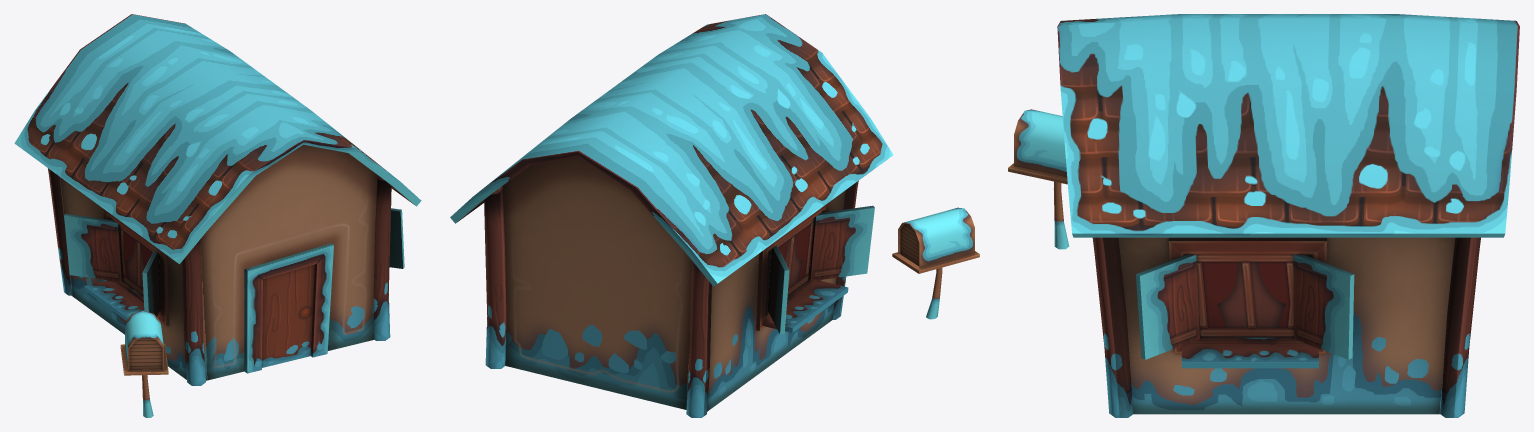
File: House4.FBX
3 views of the same model, side by side, from view 1: azimuth 30°, elevation 25°; view 2: azimuth 150°, elevation 25°; view 3: azimuth 270°, elevation 25° (orthographic). The views are drawn at different scales.
Parts seen in each view (by area): view 1: House4; view 2: House4; view 3: House4.
Boxes of the visible parts, bbox=[...] form: House4: bbox=[14, 14, 421, 417]; House4: bbox=[450, 14, 979, 417]; House4: bbox=[1008, 14, 1519, 417].
Bounding box in the file's own units: 208 × 151 × 214.
